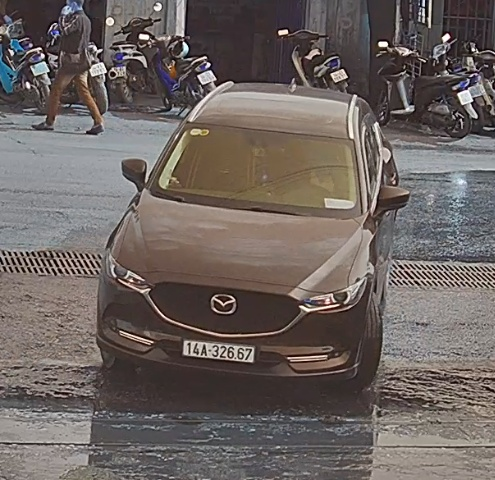vehicle plate: (181, 334, 264, 364)
